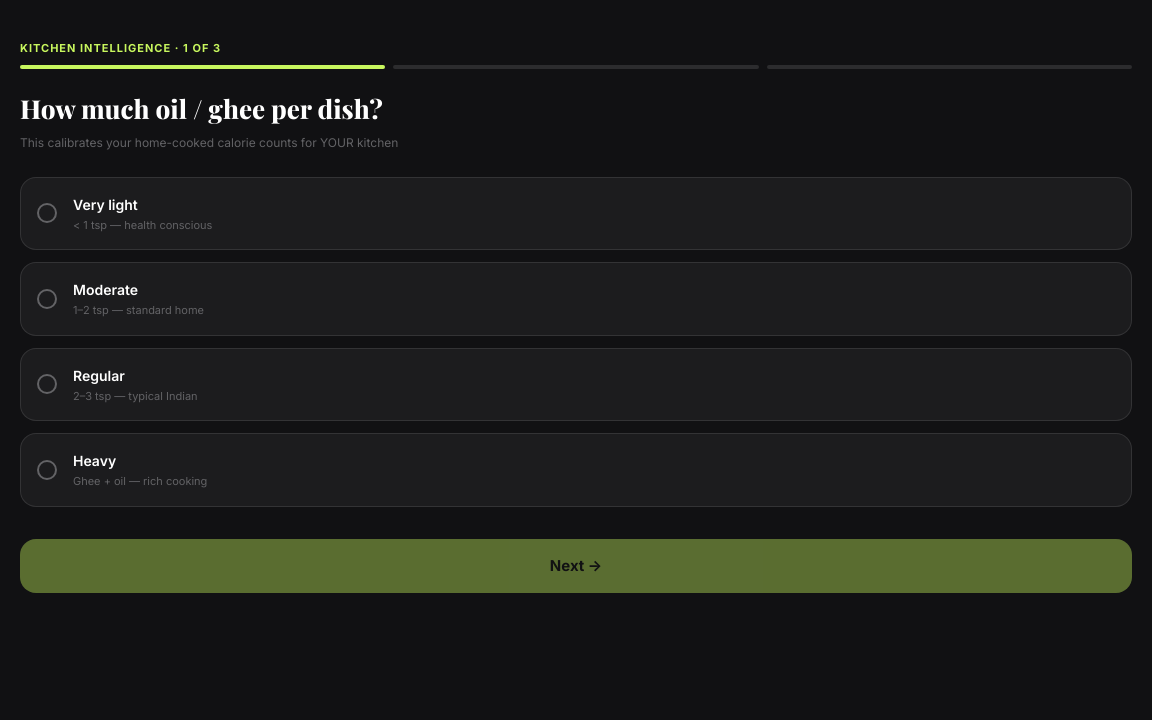
Test: OnboardingPage › clicking Next advances to question 2
The width and height of the screenshot is (1152, 720).
Step 1. Click the text "Moderate" → (106, 290), box [73,281,138,298]
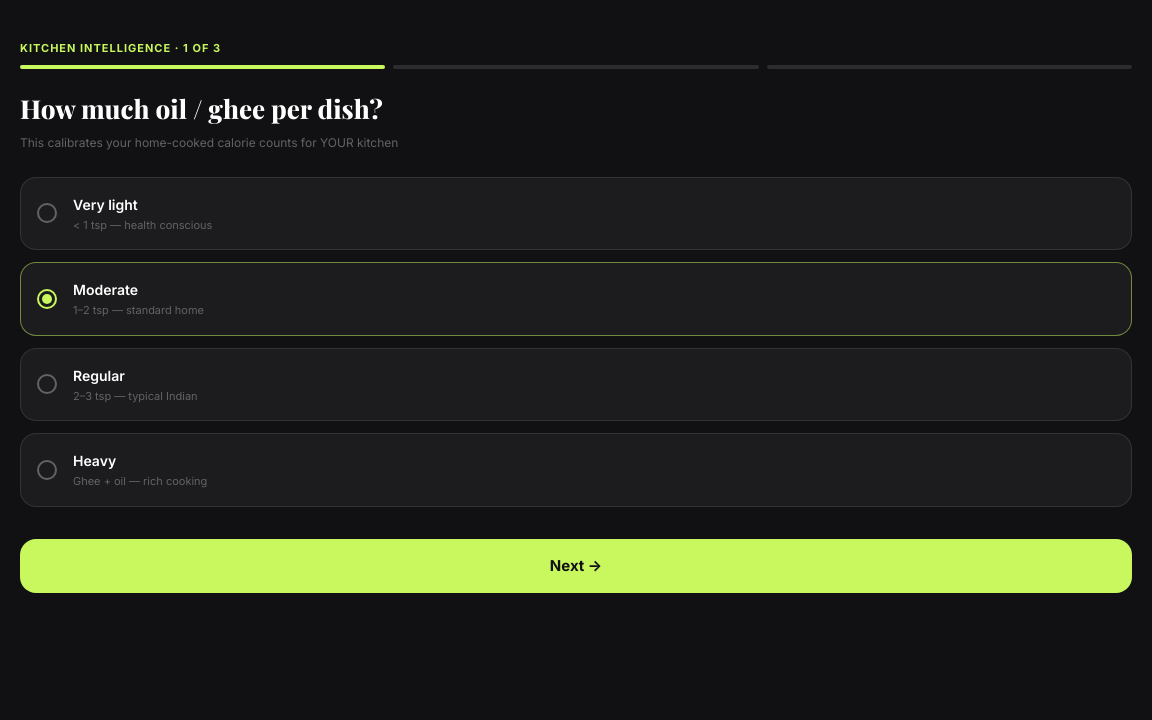
Step 2. Click the button "Next →" → (576, 566), box [20,538,1132,593]
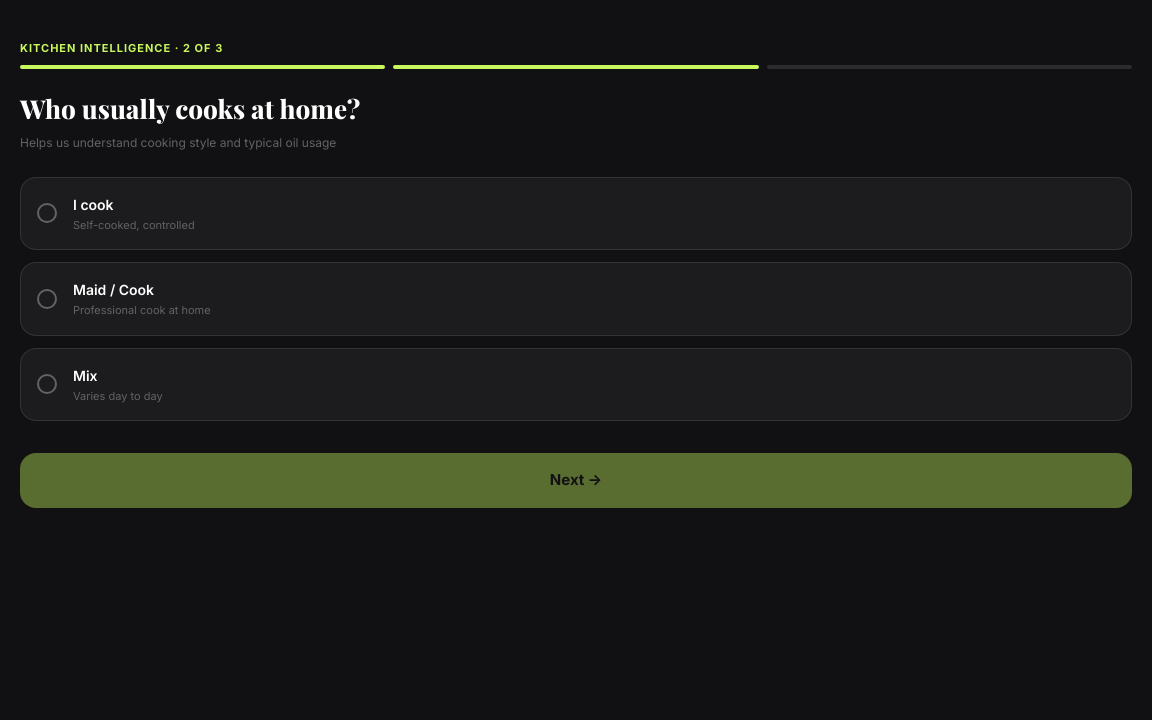
Expected: the heading "Who usually cooks at home?" is shown, [20,90,360,126]
Expected: the text "Kitchen Intelligence · 2 of 3" is shown, [20,41,223,55]
